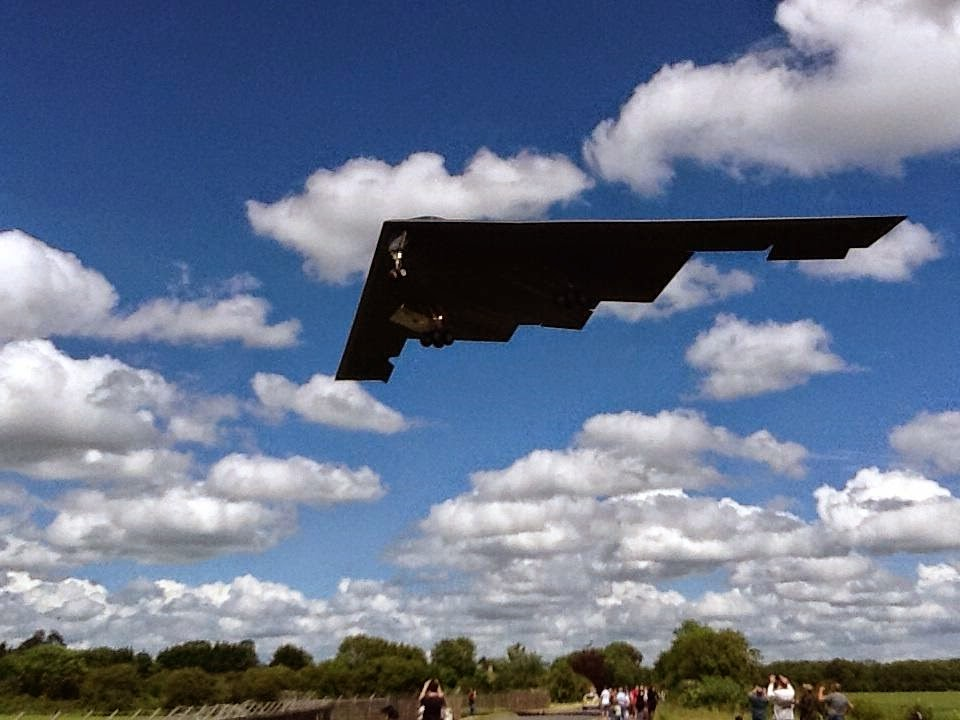B2: (334, 215, 908, 385)
